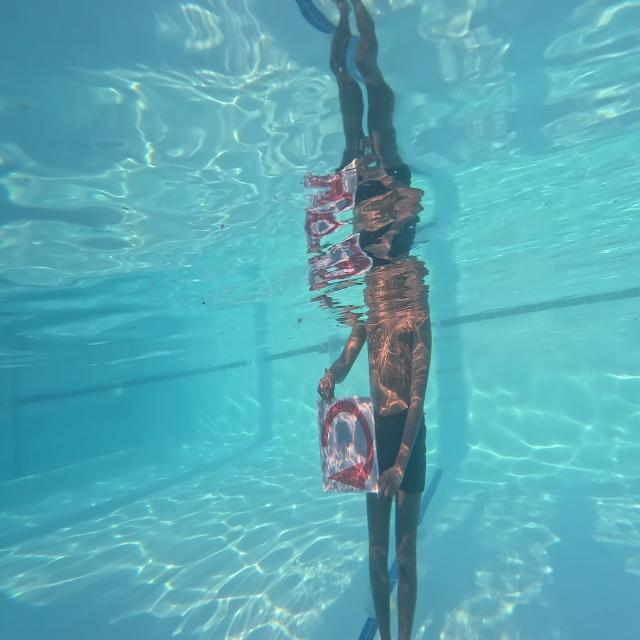red_side: (318, 389, 376, 504)
